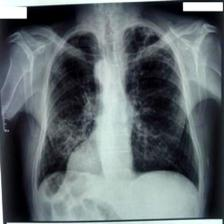tuberculosis: (24, 22, 205, 210)
